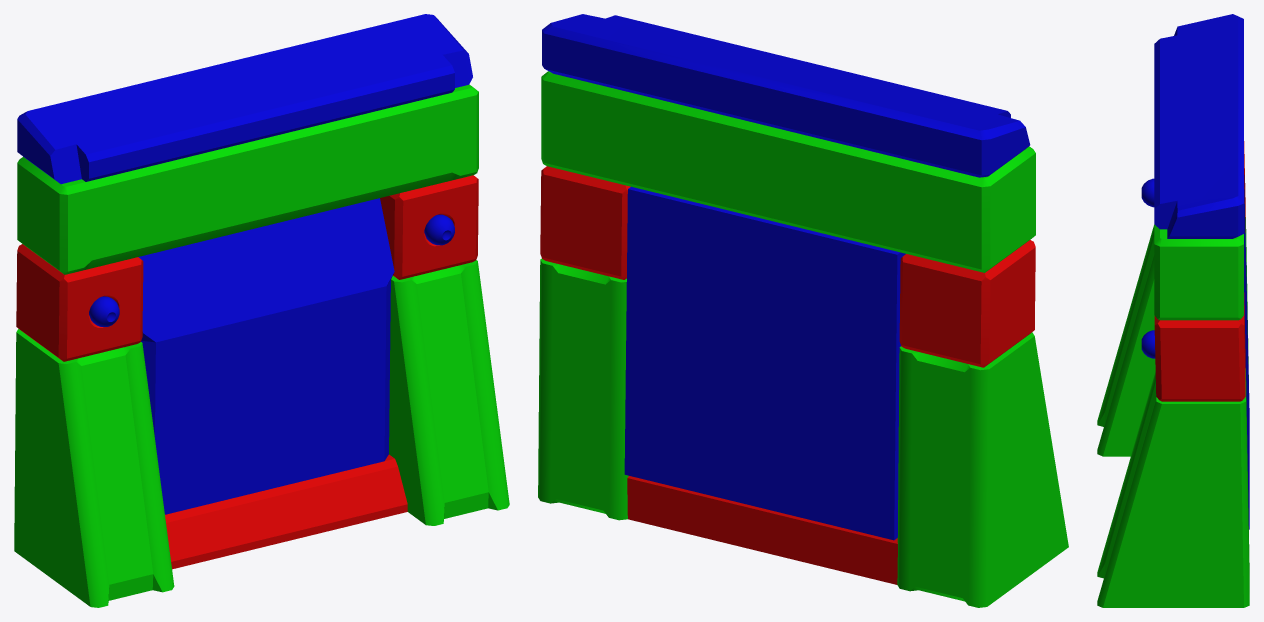
Rendered from SM_ScifiWall01.fbx.
3 views of the same model, side by side, from view 1: azimuth 30°, elevation 25°; view 2: azimuth 150°, elevation 25°; view 3: azimuth 270°, elevation 25° (orthographic). The views are drawn at different scales.
Parts seen in each view (by area): view 1: Wall; view 2: Wall; view 3: Wall.
Part boxes in pixels (bbox=[...]): Wall: bbox=[14, 14, 509, 607]; Wall: bbox=[538, 14, 1068, 607]; Wall: bbox=[1097, 14, 1249, 607].
Bounding box in the file's own units: 2000 × 2005 × 680.
